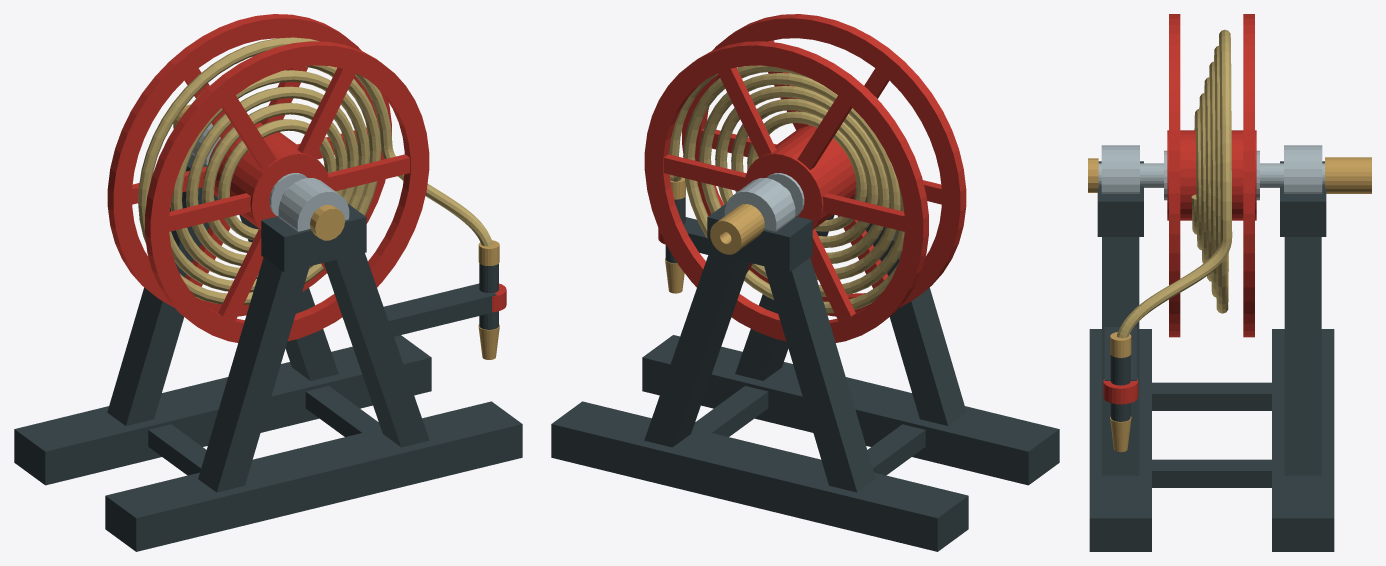
3 renders of one model, left to right at view 1: azimuth 30°, elevation 25°; view 2: azimuth 150°, elevation 25°; view 3: azimuth 270°, elevation 25°, orthographic.
Visible parts, largest first — view 1: GroundFoot_Front, ContinuousWoundHose, ReelFlange_Front, GroundFoot_Rear, ReelFlange_Rear, StandLeg_Front_Left, StandLeg_Front_Right, StandLeg_Rear_Left, WindingCore, BearingBridge_Front, NozzleCarrierArm, StandLeg_Rear_Right (+10 smaller); view 2: GroundFoot_Rear, ReelFlange_Rear, ContinuousWoundHose, GroundFoot_Front, ReelFlange_Front, StandLeg_Rear_Left, StandLeg_Rear_Right, StandLeg_Front_Left, WindingCore, BearingBridge_Rear, BearingSleeve_Rear, BaseTie_Right (+8 smaller); view 3: ContinuousWoundHose, StandLeg_Rear_Right, GroundFoot_Rear, GroundFoot_Front, StandLeg_Front_Right, ReelFlange_Rear, ReelFlange_Front, BaseTie_Left, BaseTie_Right, WindingCore, BearingBridge_Front, BearingBridge_Rear (+10 smaller).
Boxes of the visible parts, bbox=[...] form: GroundFoot_Front: bbox=[105, 401, 522, 551]; ContinuousWoundHose: bbox=[138, 37, 493, 304]; ReelFlange_Front: bbox=[145, 41, 429, 342]; GroundFoot_Rear: bbox=[14, 335, 431, 485]; ReelFlange_Rear: bbox=[107, 14, 391, 316]; StandLeg_Front_Left: bbox=[198, 257, 309, 492]; StandLeg_Front_Right: bbox=[324, 253, 429, 447]; StandLeg_Rear_Left: bbox=[107, 198, 209, 425]; WindingCore: bbox=[208, 122, 329, 229]; BearingBridge_Front: bbox=[261, 203, 366, 272]; NozzleCarrierArm: bbox=[383, 283, 496, 336]; StandLeg_Rear_Right: bbox=[239, 214, 338, 380]; GroundFoot_Rear: bbox=[551, 401, 968, 551]; ReelFlange_Rear: bbox=[644, 41, 928, 342]; ContinuousWoundHose: bbox=[669, 65, 904, 313]; GroundFoot_Front: bbox=[642, 335, 1059, 485]; ReelFlange_Front: bbox=[682, 14, 966, 316]; StandLeg_Rear_Left: bbox=[764, 257, 875, 492]; StandLeg_Rear_Right: bbox=[644, 253, 749, 447]; StandLeg_Front_Left: bbox=[866, 223, 966, 425]; WindingCore: bbox=[744, 125, 855, 229]; BearingBridge_Rear: bbox=[707, 203, 812, 272]; BearingSleeve_Rear: bbox=[724, 178, 795, 231]; BaseTie_Right: bbox=[693, 386, 768, 436]; ContinuousWoundHose: bbox=[1116, 29, 1232, 338]; StandLeg_Rear_Right: bbox=[1284, 237, 1321, 475]; GroundFoot_Rear: bbox=[1272, 329, 1334, 551]; GroundFoot_Front: bbox=[1089, 329, 1151, 551]; StandLeg_Front_Right: bbox=[1102, 237, 1139, 475]; ReelFlange_Rear: bbox=[1243, 14, 1254, 337]; ReelFlange_Front: bbox=[1169, 14, 1180, 337]; BaseTie_Left: bbox=[1152, 382, 1271, 410]; BaseTie_Right: bbox=[1152, 459, 1271, 487]; WindingCore: bbox=[1167, 130, 1256, 220]; BearingBridge_Front: bbox=[1097, 161, 1143, 236]; BearingBridge_Rear: bbox=[1280, 161, 1326, 236].
Bounding box in the file's own units: 1.08 × 1.14 × 0.685.
